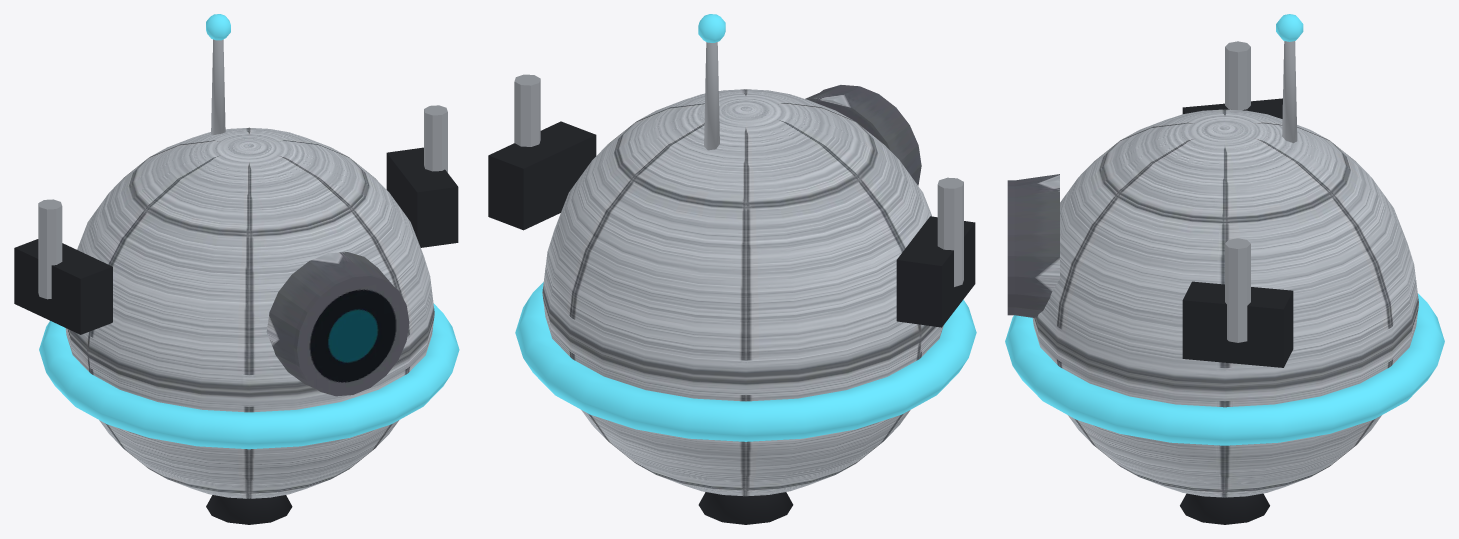
File: CHAR_Sentinel.glb
3 views of the same model, side by side, from view 1: azimuth 30°, elevation 25°; view 2: azimuth 150°, elevation 25°; view 3: azimuth 270°, elevation 25° (orthographic). The views are drawn at different scales.
Parts seen in each view (by area): view 1: CHAR_Sentinel; view 2: CHAR_Sentinel; view 3: CHAR_Sentinel.
Part boxes in pixels (left/top/right/bottom): CHAR_Sentinel: left=14, top=14, right=459, bottom=524; CHAR_Sentinel: left=488, top=14, right=976, bottom=524; CHAR_Sentinel: left=1005, top=14, right=1444, bottom=524.
Size of the model in its own units: 0.7717 by 0.837 by 0.68.
Materials: 1 (1 with a texture image).
